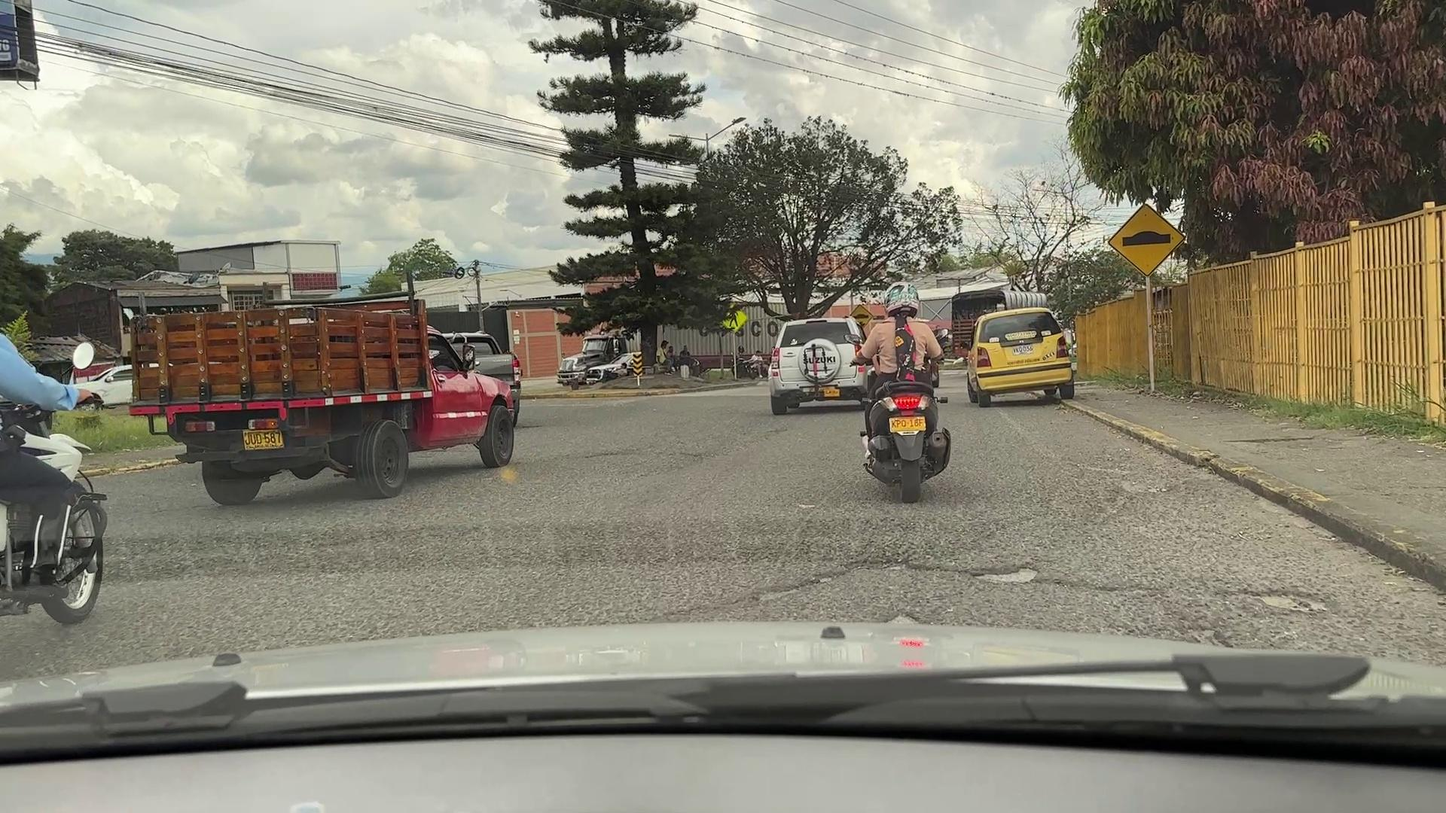bache: (754, 559, 932, 601), (1257, 596, 1325, 611), (977, 568, 1036, 583)
